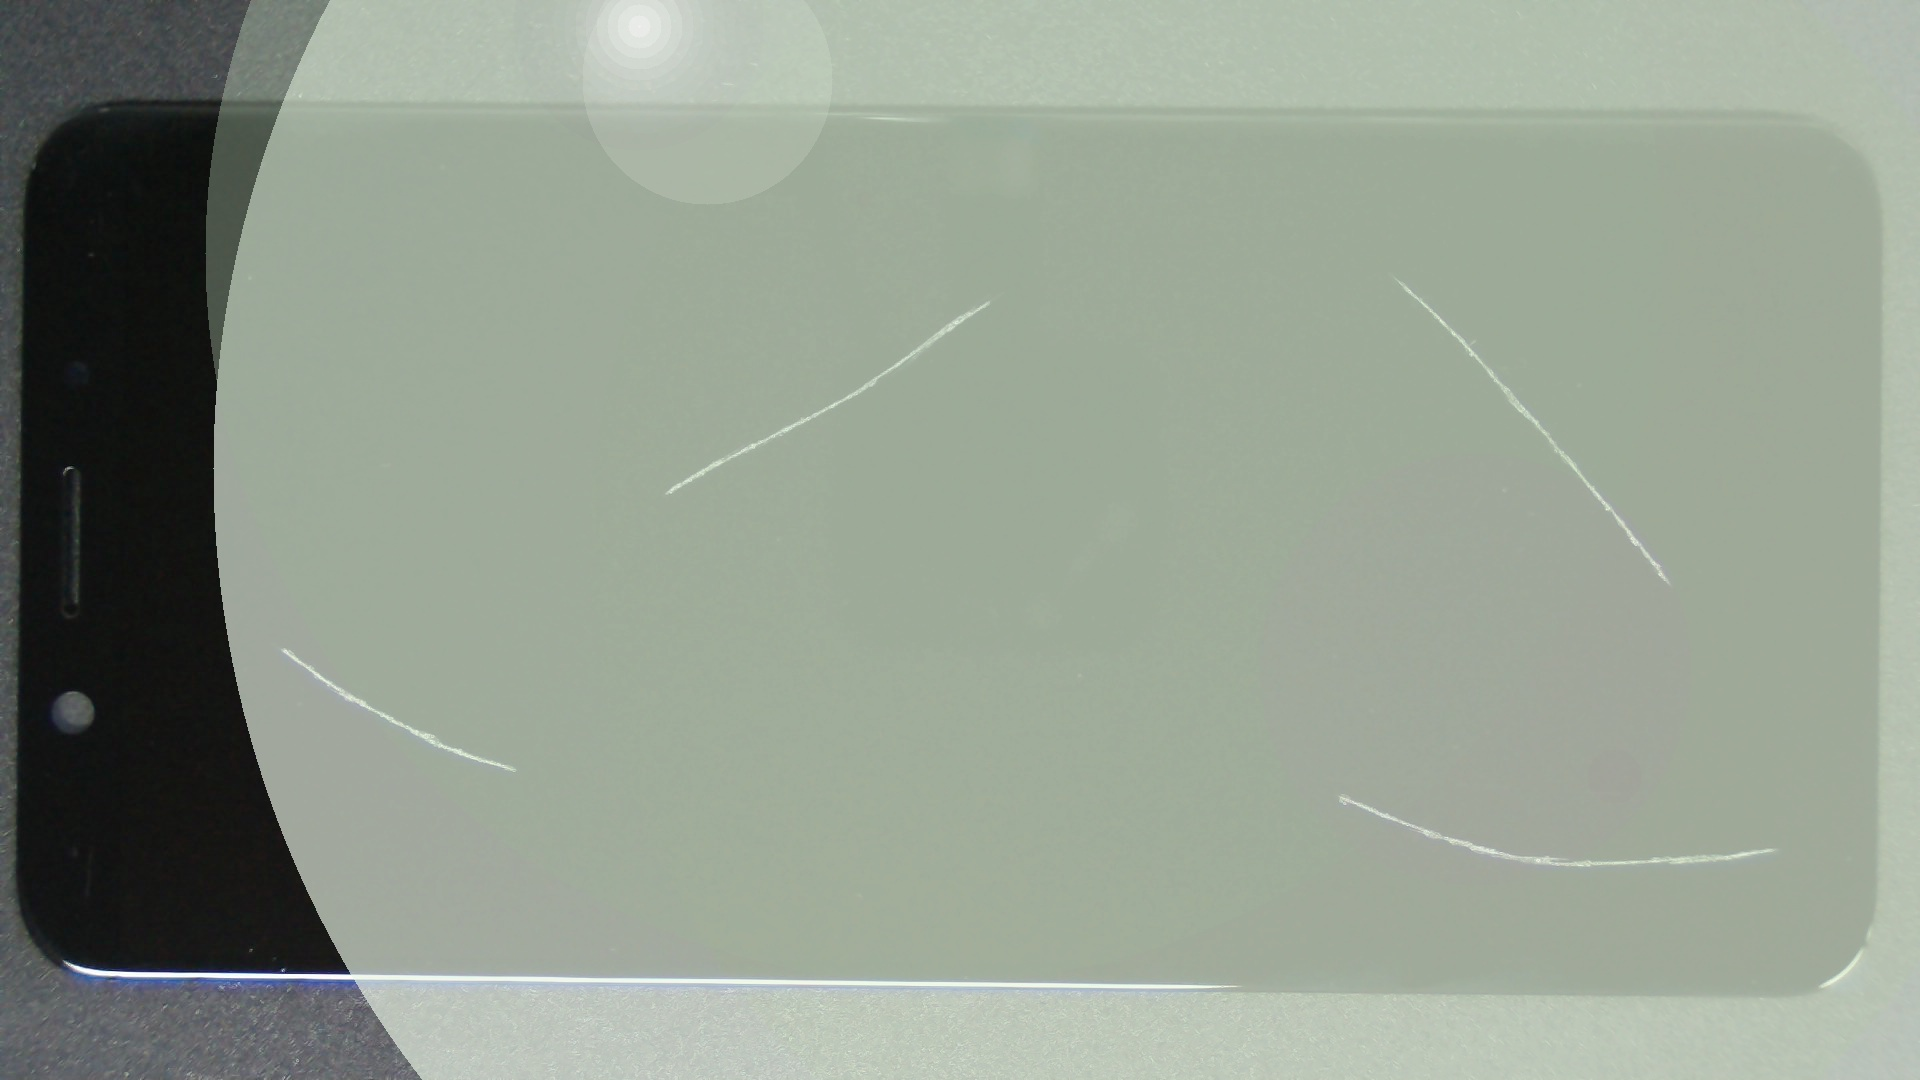oil: (670, 397, 1920, 1080), (695, 137, 1920, 413), (495, 149, 1484, 451), (141, 323, 422, 971)
